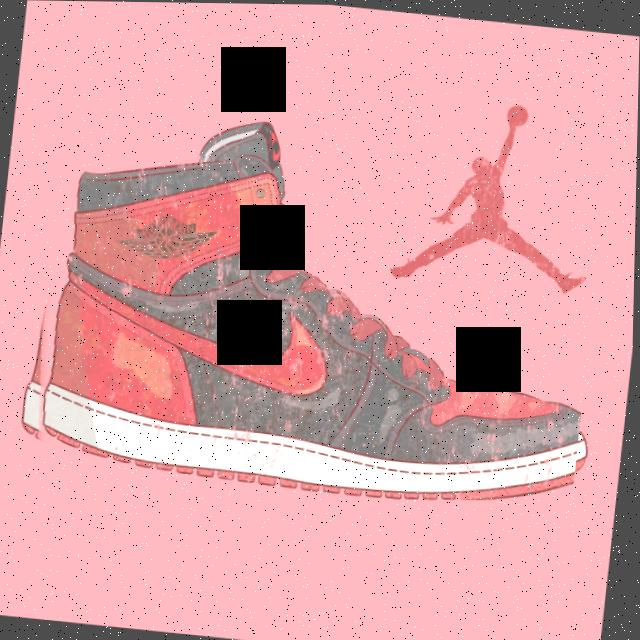shoe: (9, 132, 607, 564)
